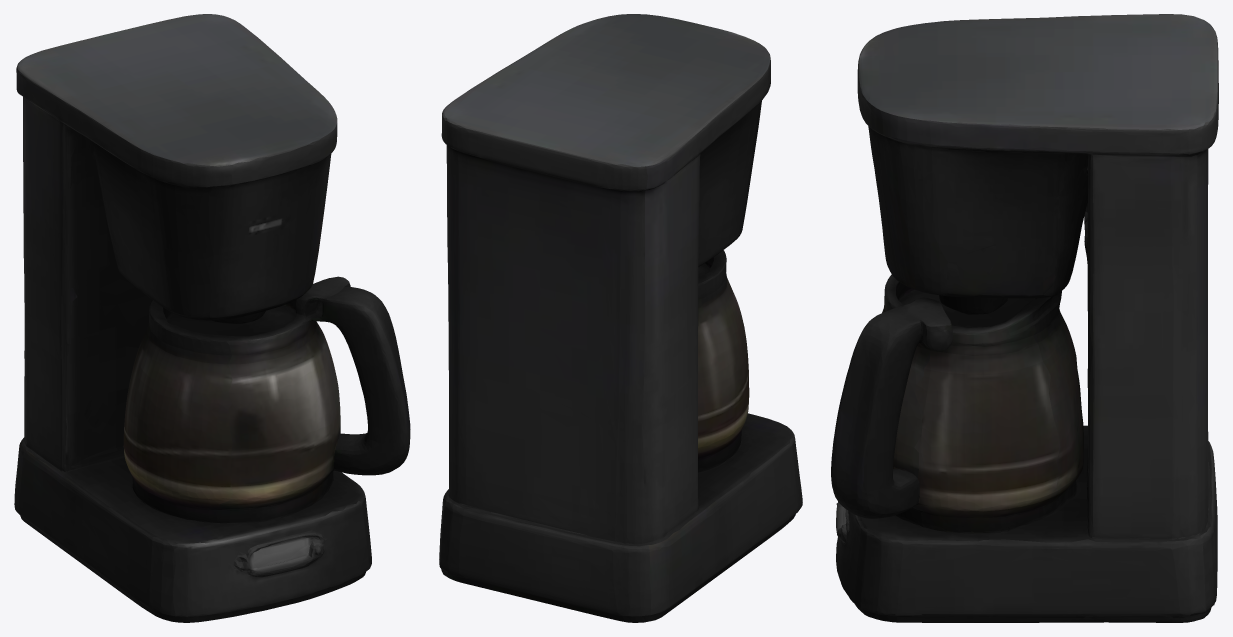
Rendered from coffeemaker.glb.
3 renders of one model, left to right at view 1: azimuth 30°, elevation 25°; view 2: azimuth 150°, elevation 25°; view 3: azimuth 270°, elevation 25°, orthographic. The views are drawn at different scales.
Parts seen in each view (by area): view 1: world; view 2: world; view 3: world.
Boxes of the visible parts, x1,y1,x2,y2 form: world: (14, 14, 410, 622); world: (439, 14, 802, 622); world: (831, 14, 1218, 622).
Bounding box in the file's own units: 0.5744 × 0.9998 × 0.7086.
Materials: 1 (1 with a texture image).
